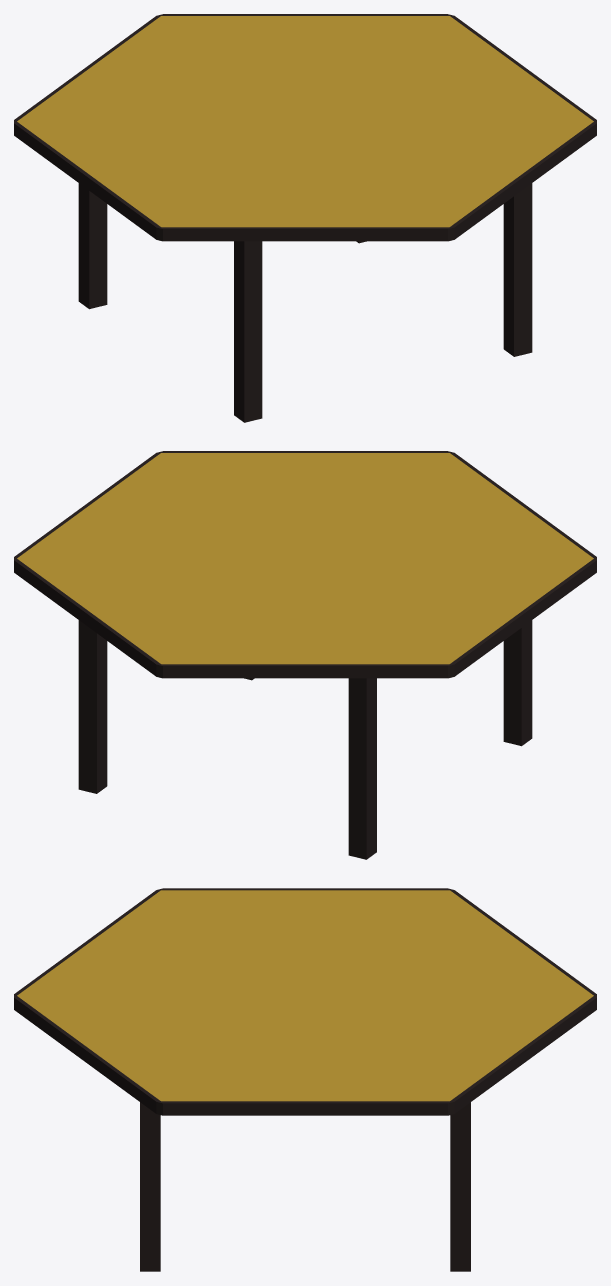
Rendered from Table.fbx.
3 views of the same model, one above another, from view 1: azimuth 30°, elevation 25°; view 2: azimuth 150°, elevation 25°; view 3: azimuth 270°, elevation 25° (orthographic).
Parts seen in each view (by area): view 1: Cylinder.005, Cube.026; view 2: Cylinder.005, Cube.026; view 3: Cylinder.005, Cube.026.
Boxes of the visible parts, x1,y1,x2,y2 form: Cylinder.005: (14,14,596,241); Cube.026: (78,183,532,422); Cylinder.005: (14,451,596,678); Cube.026: (78,620,532,859); Cylinder.005: (14,888,596,1115); Cube.026: (140,1102,470,1271).
Bounding box in the file's own units: 424 × 189 × 486.
